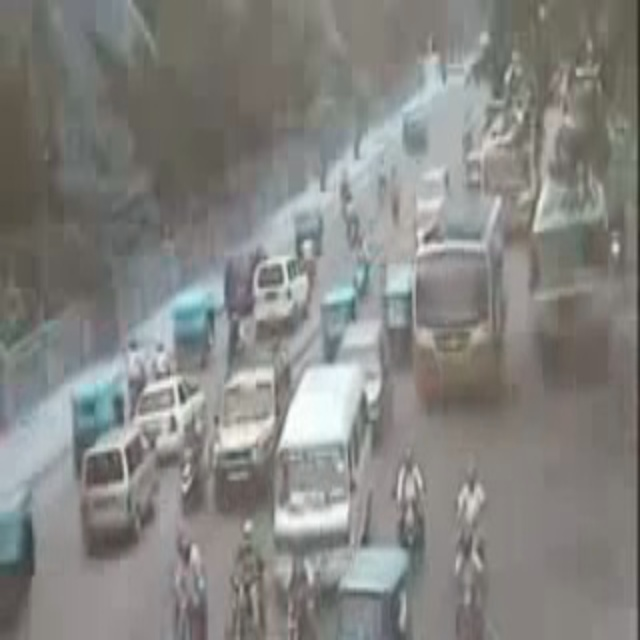acc: (269, 540, 340, 640)
